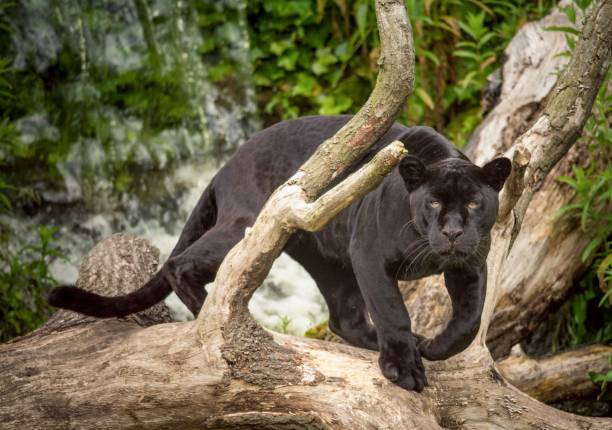panther: (392, 153, 513, 283)
